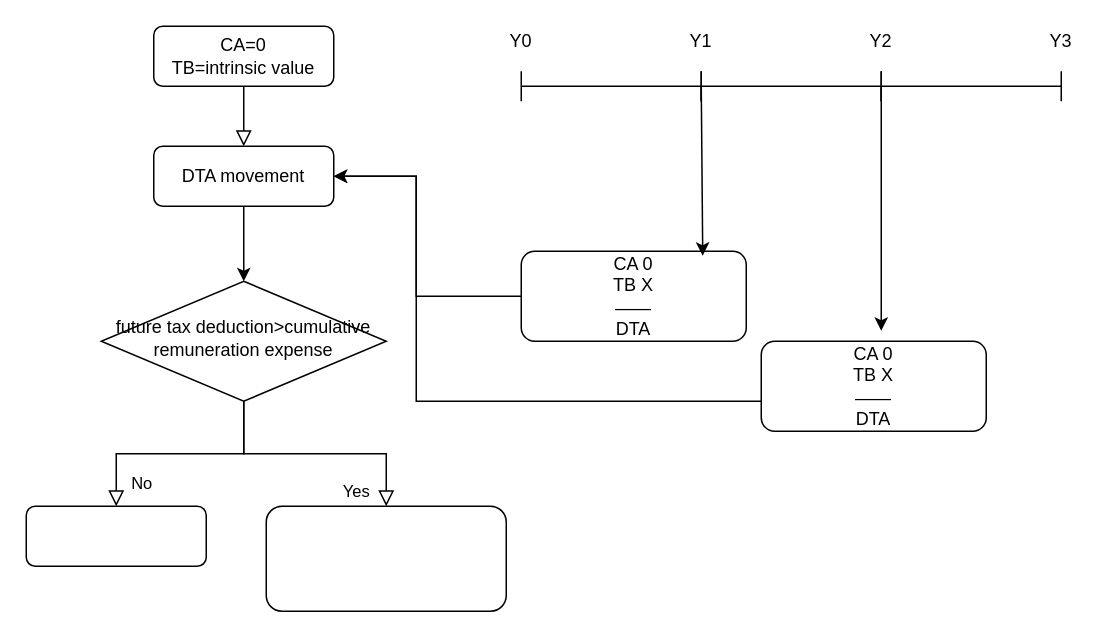
Some shapes in this 1118 by 638 pixel diagram are drawn without their labels. Each missing label, with the box of its shape:
DR DTA CR PL: (25, 505, 206, 566)
DR DTA CR PL(up to the cumulative expense) CR equity: (265, 505, 506, 611)
